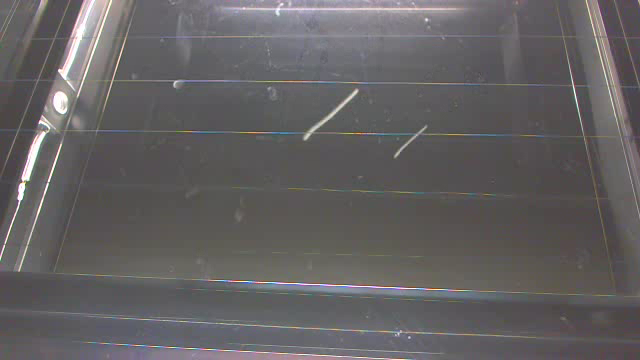alpha: (300, 87, 362, 145), (391, 124, 430, 159), (174, 79, 186, 89)
